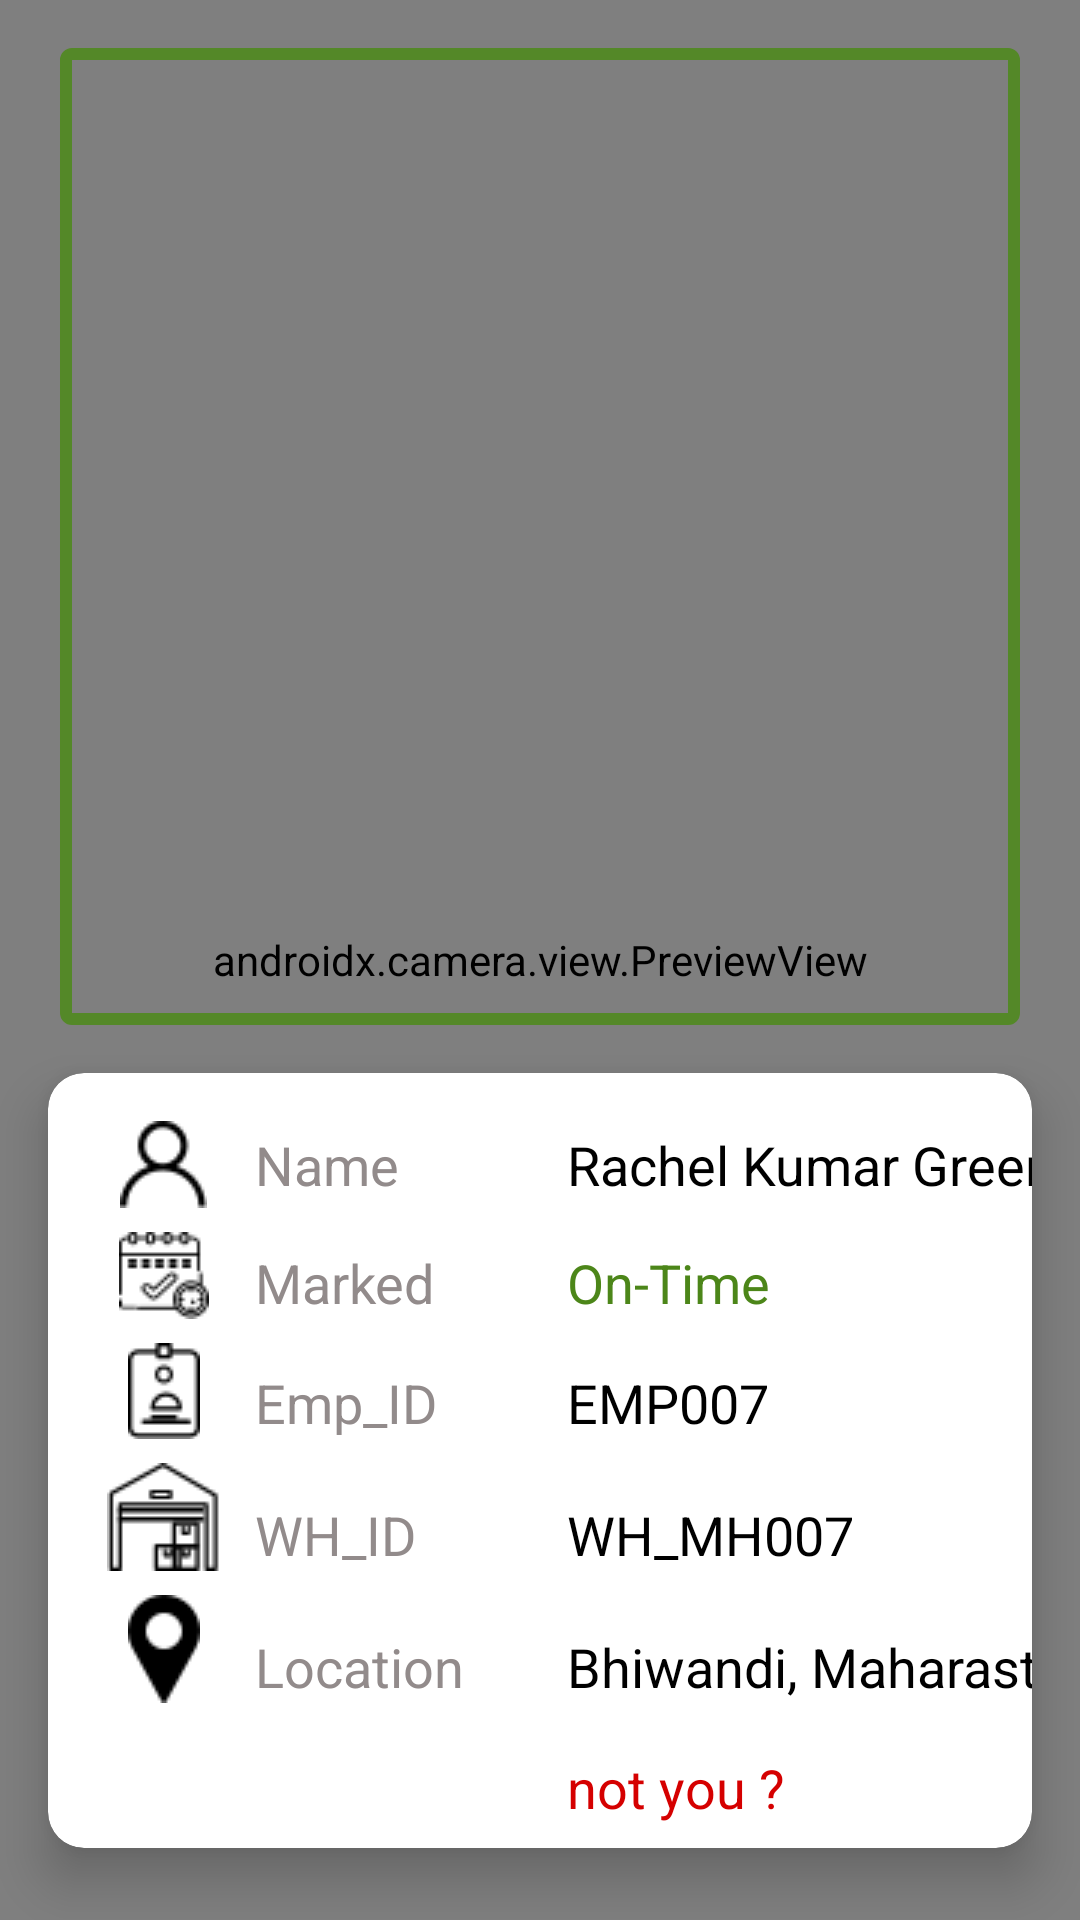

Screen size 1080x1920. Icon name, then its box in pixels as (x1, y1, x2, y2):
warehouse: (107, 1463, 219, 1571)
